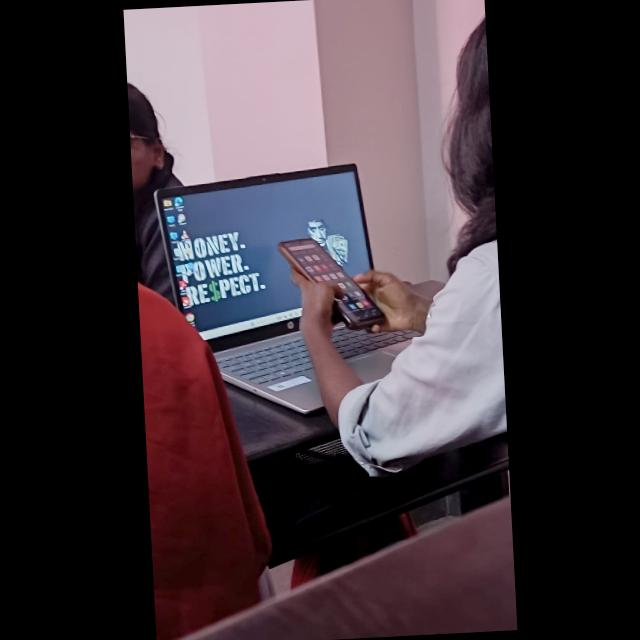laptop: (160, 167, 292, 401)
